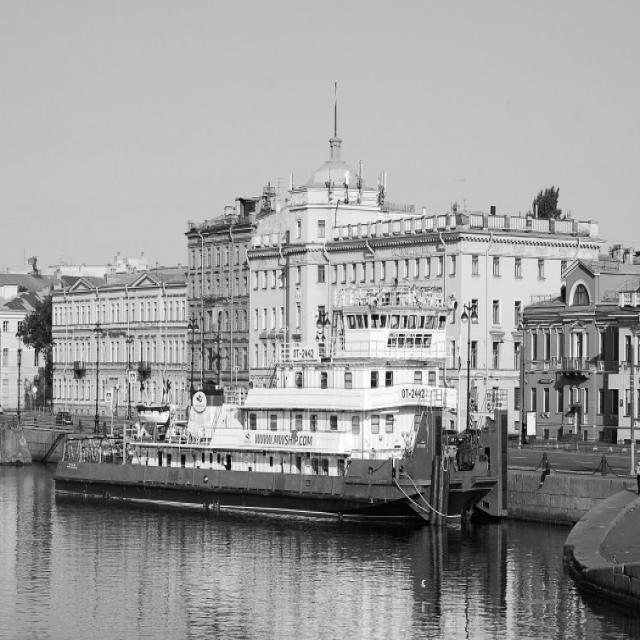tugboat: (53, 280, 513, 542)
